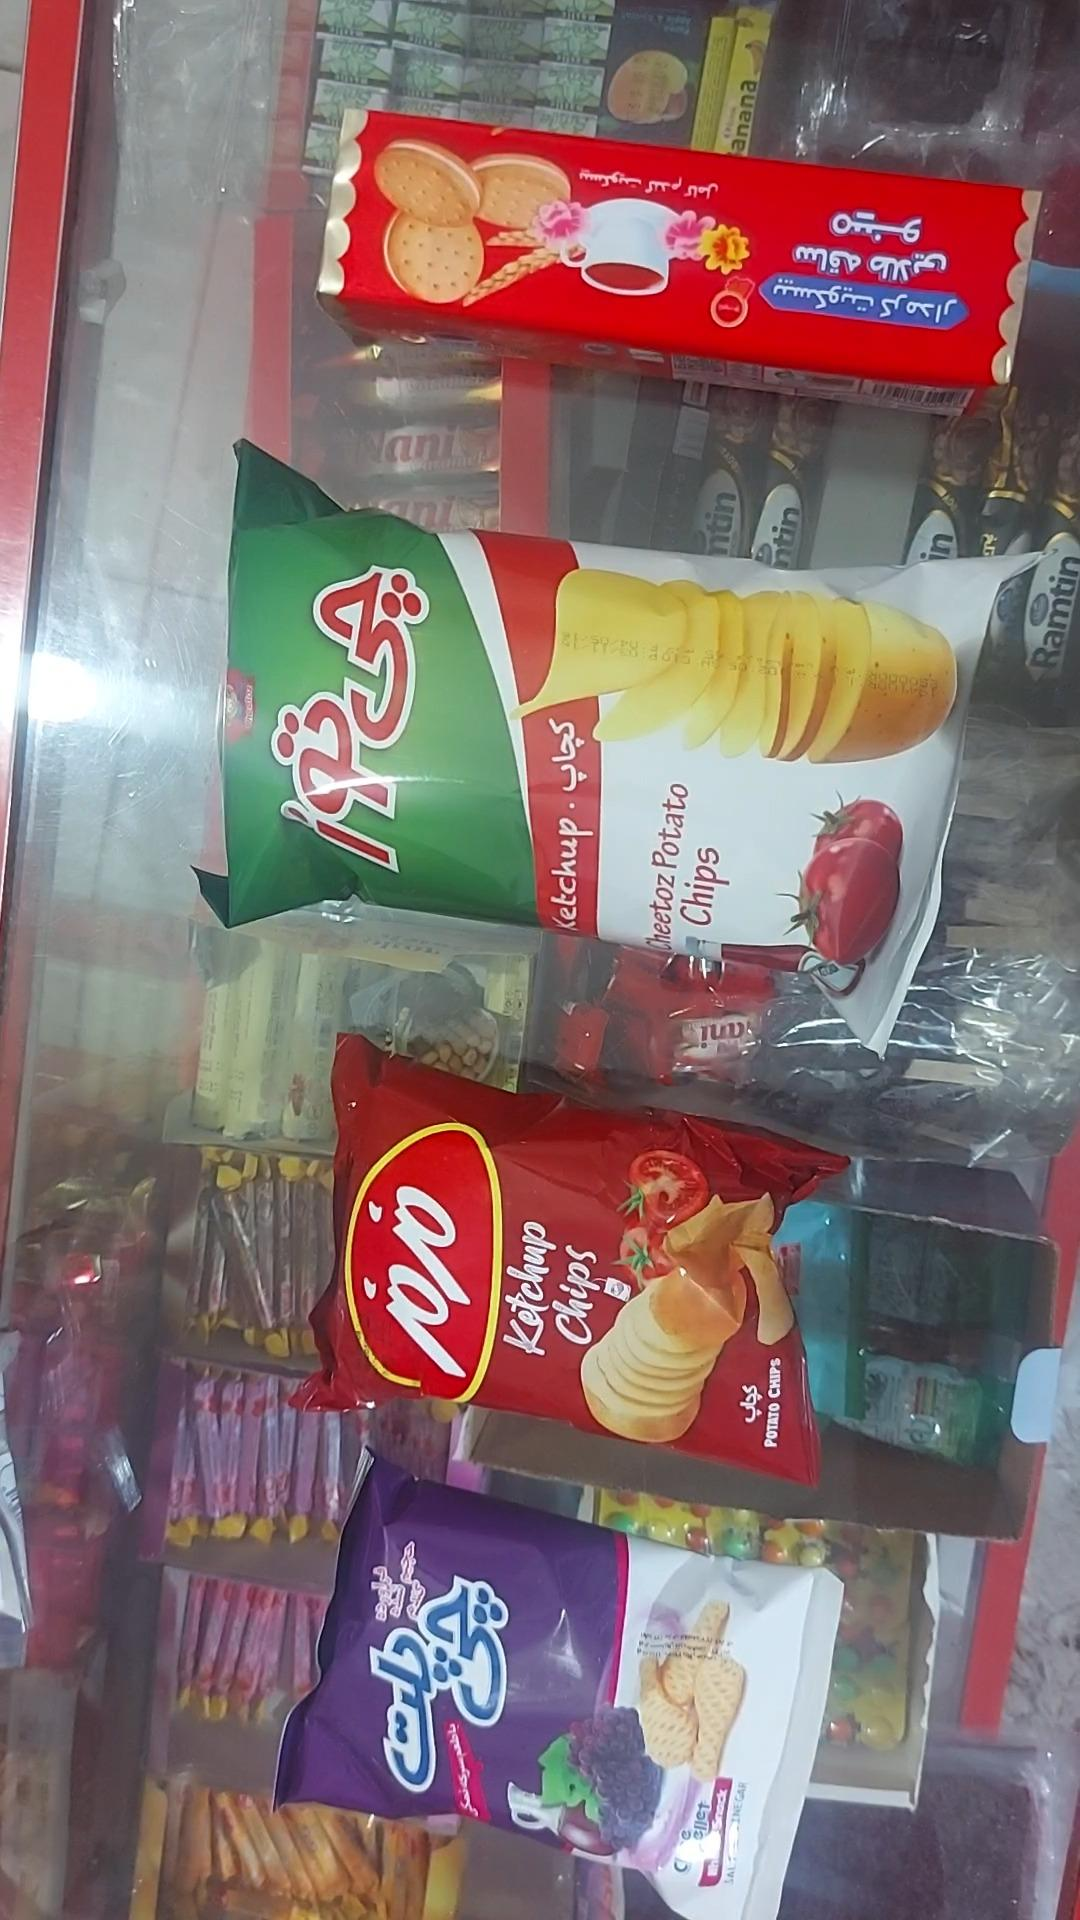Chee pellet vinegar: (273, 1461, 848, 1919)
Cheetoz ketchup chips: (194, 442, 1042, 1055)
Maz Maz ketchup chips: (309, 1035, 851, 1490)
Minoo cream biscuit: (313, 109, 1042, 414)
